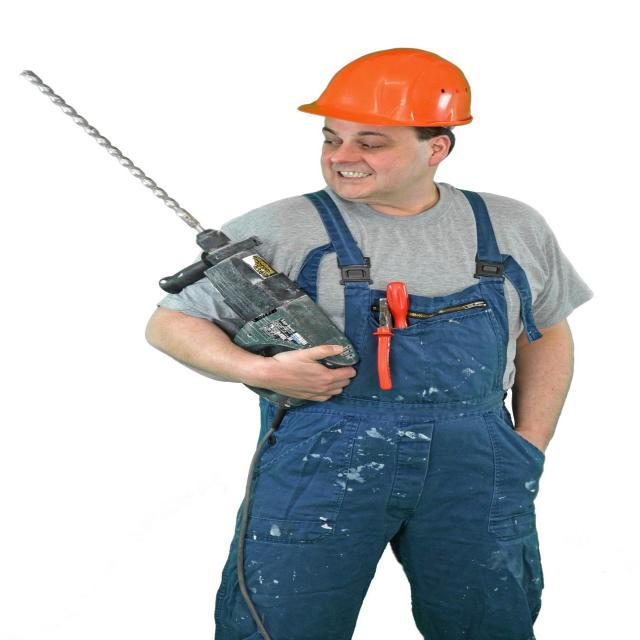safety_helmet: (293, 44, 475, 132)
